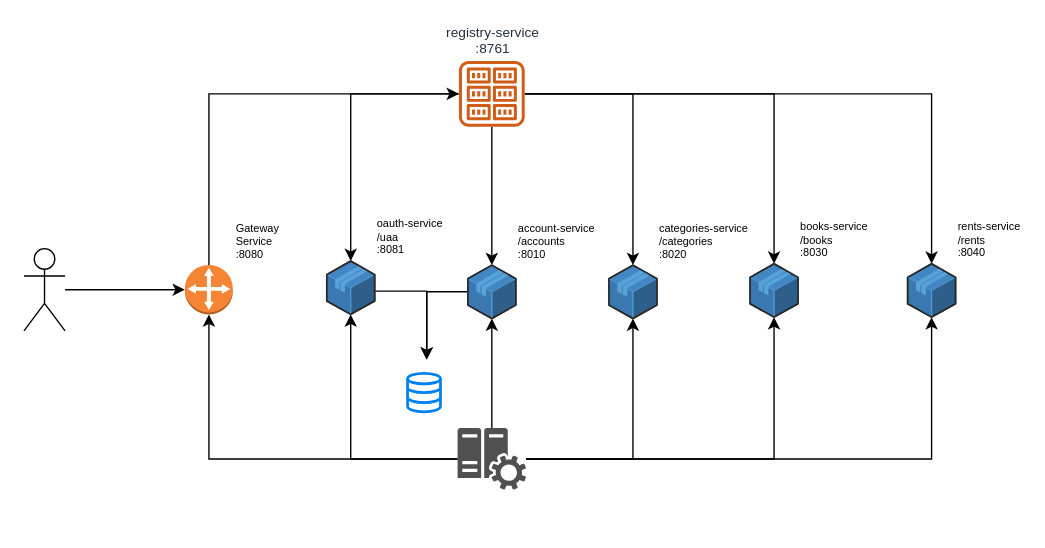
Image size: 1045x548. Some labels were removed from this diagram. The box of each missing label's shape, as (x1, y1, x2, y2) in pixels:
Client: (23, 247, 65, 331)
Config server :8888: (457, 427, 525, 489)
mongoDB: (406, 371, 441, 413)
